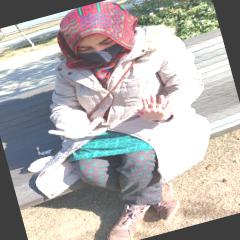gloved: (50, 106, 110, 144)
not-gloved: (132, 90, 178, 128)
